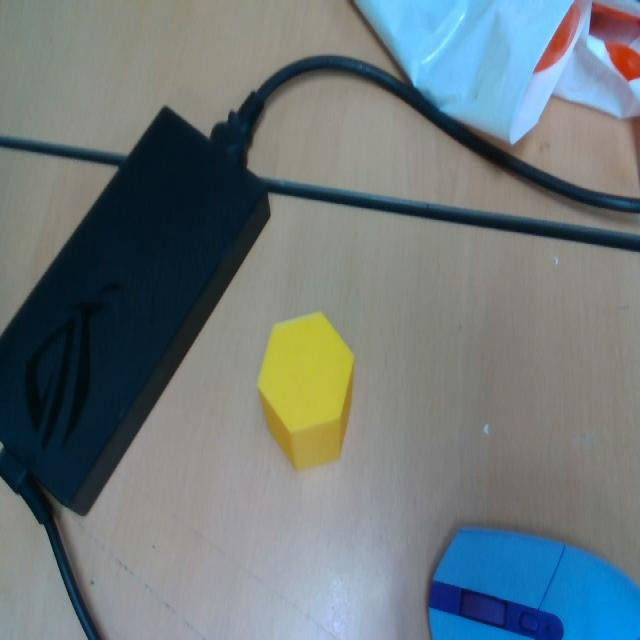hexagon: (258, 313, 354, 471)
